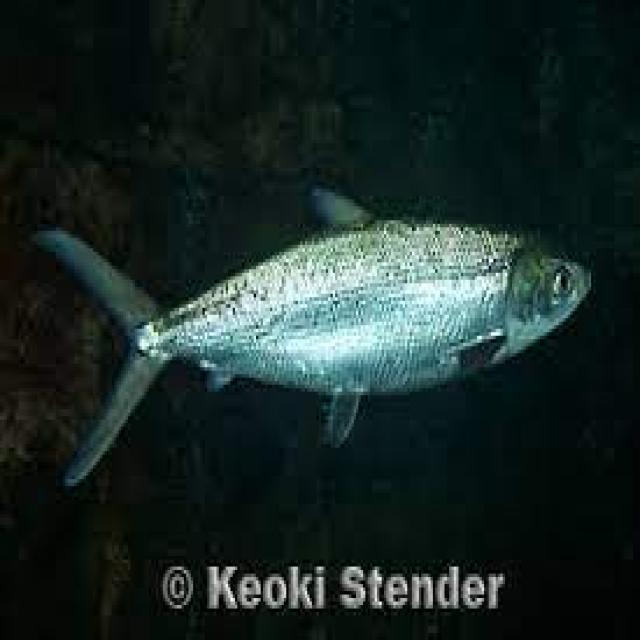Bangus: (22, 160, 602, 501)
